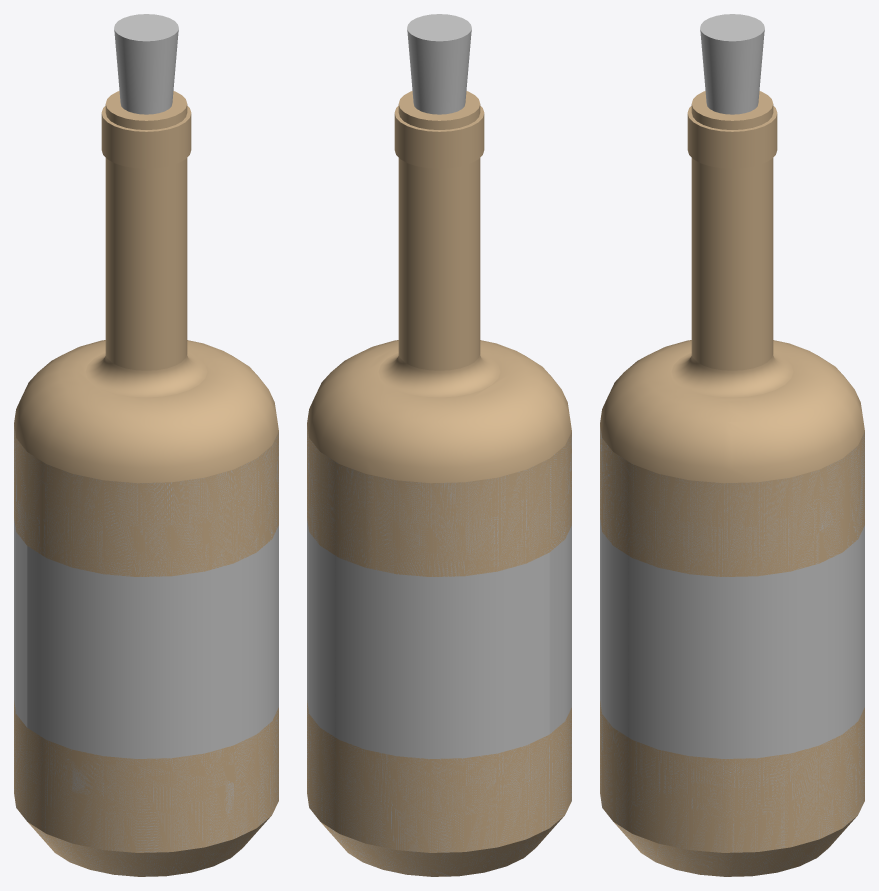
3 renders of one model, left to right at view 1: azimuth 30°, elevation 25°; view 2: azimuth 150°, elevation 25°; view 3: azimuth 270°, elevation 25°, orthographic.
Parts seen in each view (by area): view 1: mesh1_mesh1-geometry, mesh4_mesh4-geometry, mesh2_mesh2-geometry, mesh3_mesh3-geometry; view 2: mesh1_mesh1-geometry, mesh4_mesh4-geometry, mesh2_mesh2-geometry, mesh3_mesh3-geometry; view 3: mesh1_mesh1-geometry, mesh4_mesh4-geometry, mesh2_mesh2-geometry, mesh3_mesh3-geometry.
Boxes of the visible parts, x1,y1,x2,y2 form: mesh1_mesh1-geometry: (14, 91, 278, 576); mesh4_mesh4-geometry: (14, 518, 278, 758); mesh2_mesh2-geometry: (14, 700, 278, 876); mesh3_mesh3-geometry: (114, 14, 178, 114); mesh1_mesh1-geometry: (307, 91, 571, 576); mesh4_mesh4-geometry: (307, 518, 571, 758); mesh2_mesh2-geometry: (307, 700, 571, 876); mesh3_mesh3-geometry: (407, 14, 471, 114); mesh1_mesh1-geometry: (600, 91, 864, 576); mesh4_mesh4-geometry: (600, 518, 864, 758); mesh2_mesh2-geometry: (600, 700, 864, 876); mesh3_mesh3-geometry: (700, 14, 764, 114).
Size of the model in its own units: 0.2745 by 0.9216 by 0.2745.
